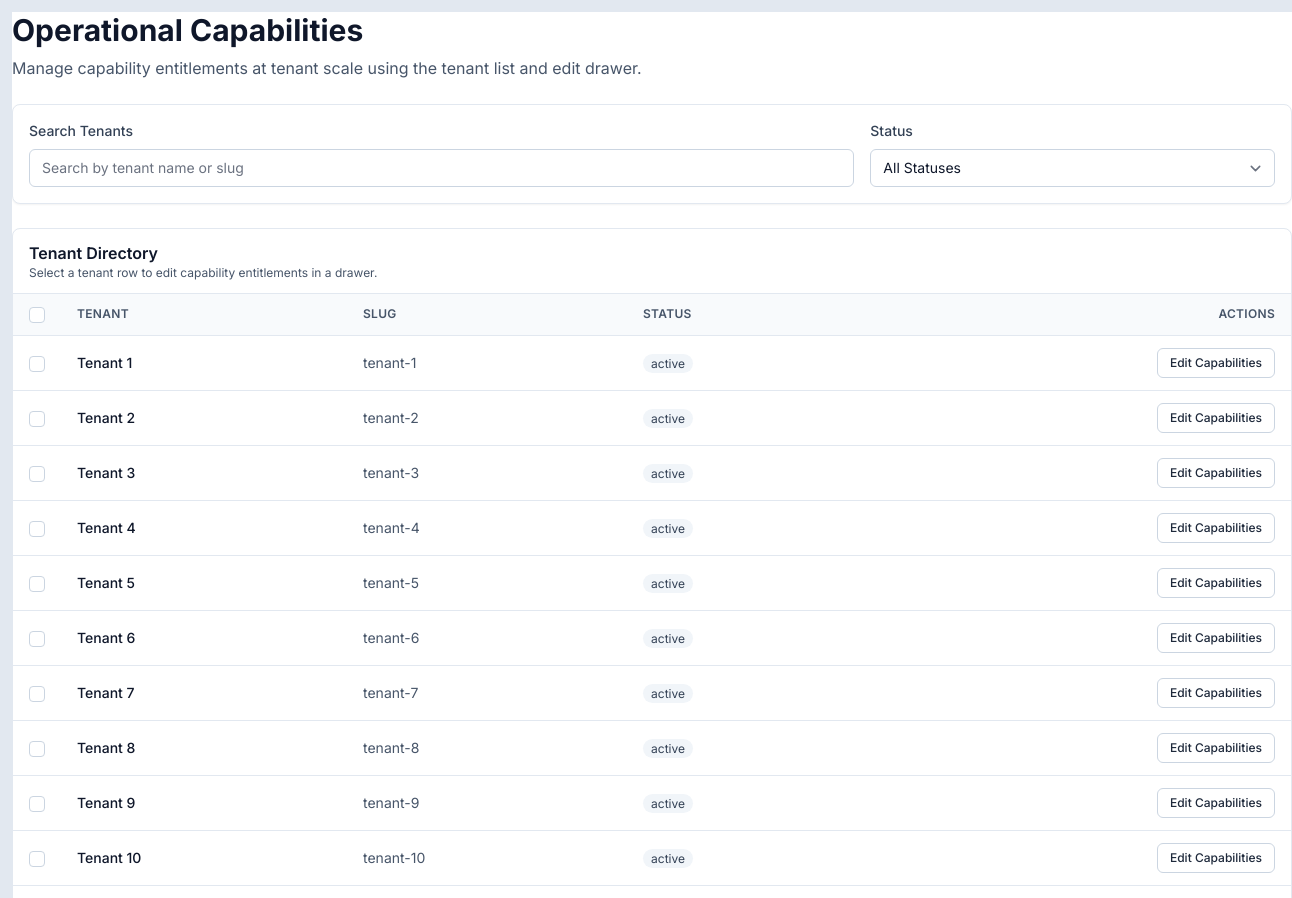
Test: OperationalCapabilitiesPage › caps bulk selection at 50 tenants
This screenshot has width=1292, height=898.
Click the checkbox named "select all tenants on this page" at (37, 315), box [29,307,45,323]
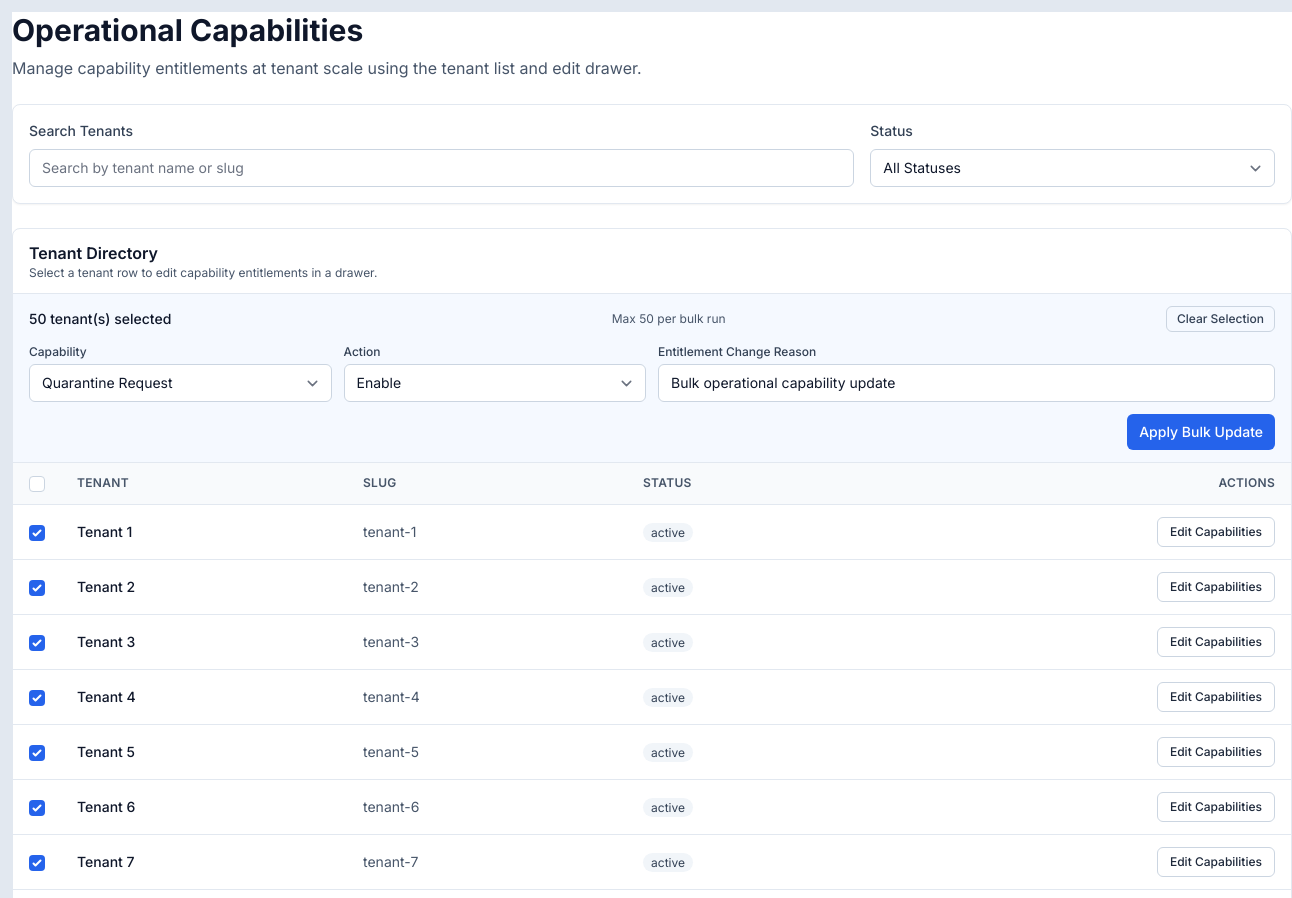
Check: the text "50 tenant(s) selected" is shown, box [29,309,171,329]
